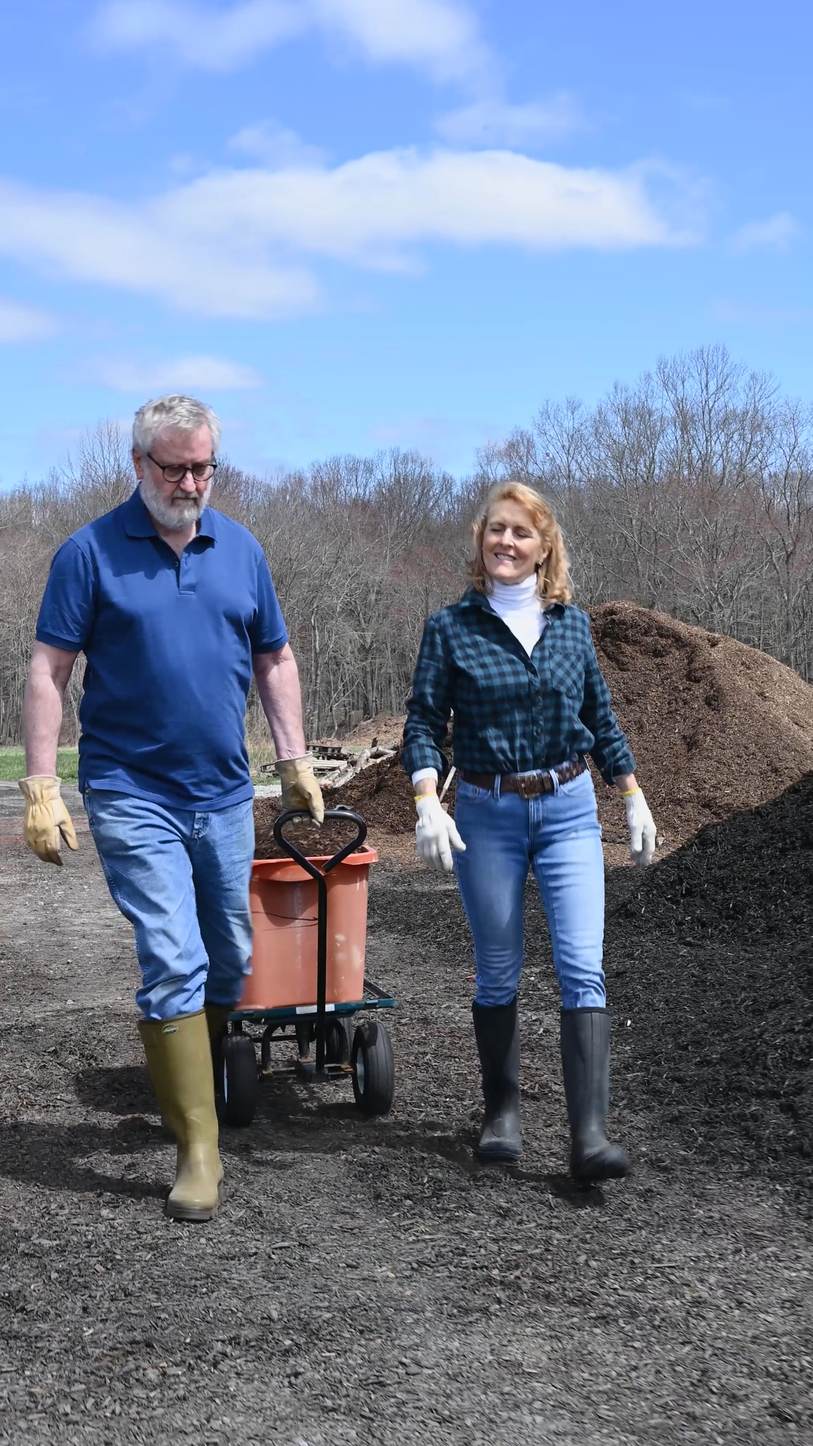gloves: (0, 771, 104, 879), (392, 793, 501, 883), (269, 743, 344, 842), (609, 782, 672, 879)
